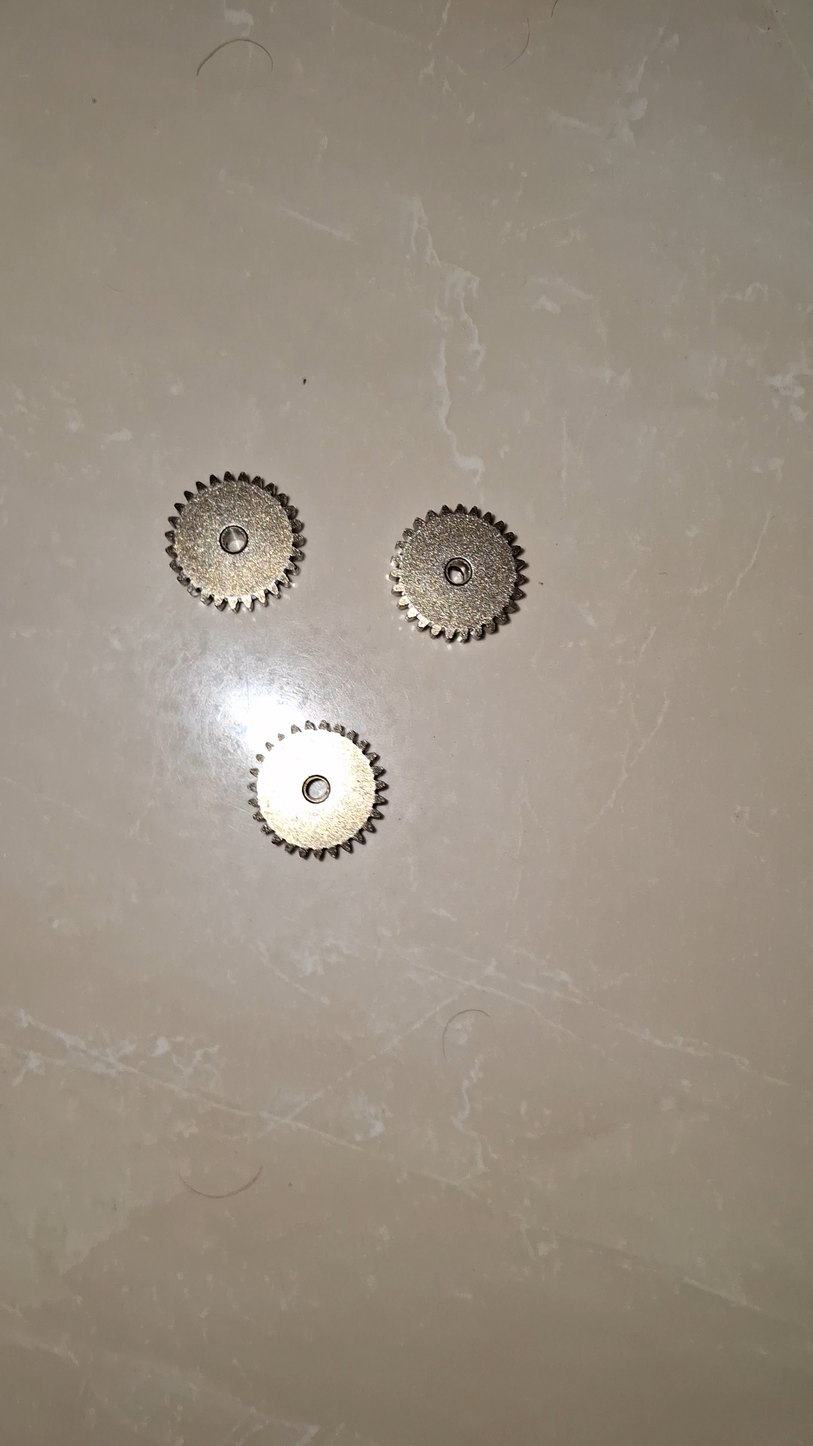spur gear: (166, 472, 303, 611), (249, 721, 386, 858), (391, 505, 526, 641)
